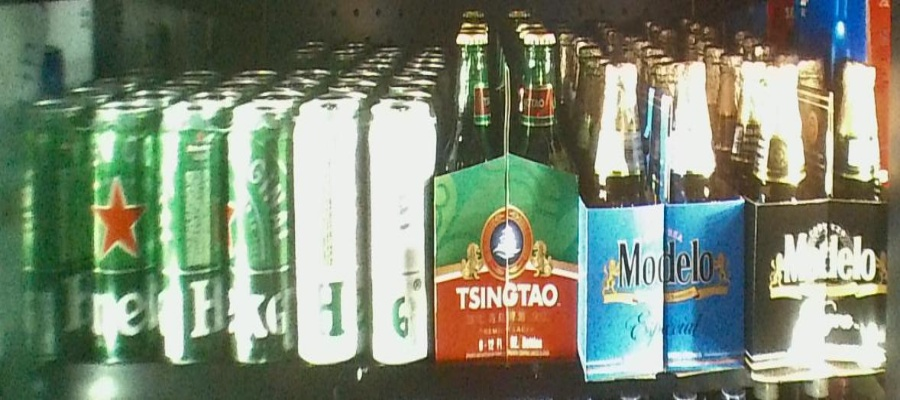bottle: (582, 62, 745, 375), (434, 28, 580, 364), (748, 60, 892, 372), (7, 104, 157, 367), (157, 107, 292, 354), (293, 107, 364, 366), (366, 104, 434, 366)
